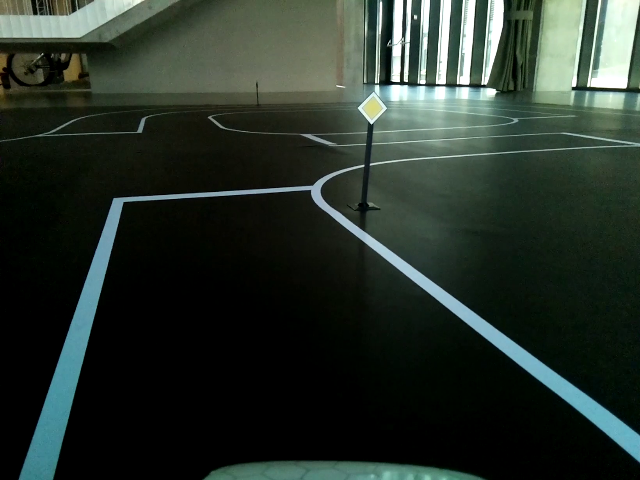priority: (358, 94, 386, 125)
